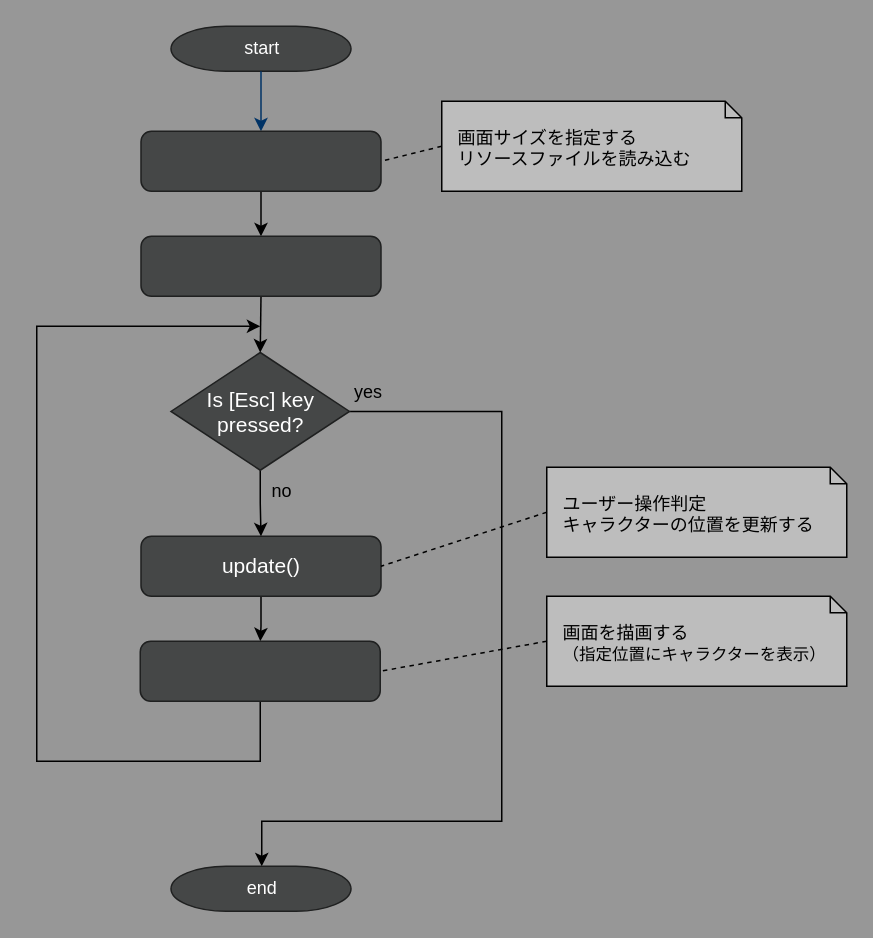
This 873x938 diagram has some shape labels left out. Each missing label, with the centre of its shape:
"draw()" goes at [259,670].
"pyxel.init() pyxel.load()" goes at [260,160].
"pyxel.run()" goes at [260,265].
